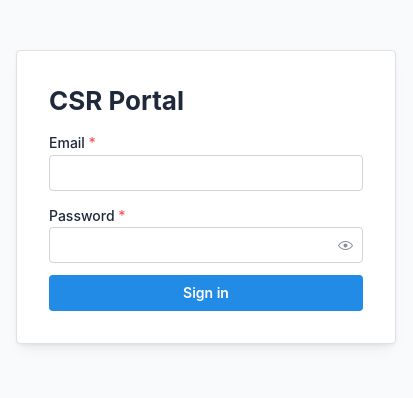
LoginPage › says the credentials were wrong on a 401
This screenshot has width=413, height=398.
Type "csr@example.com" into the field labelled "Email *" at (206, 172), box x1=49 y1=154 x2=363 y2=190
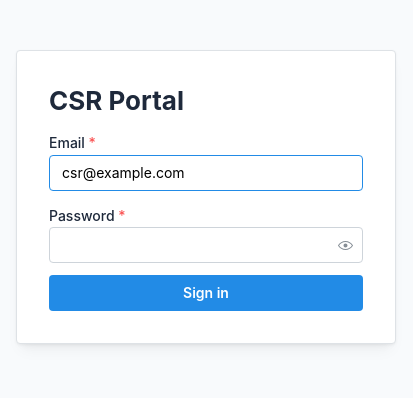
Type "wrong" into the password field labelled "Password *" at (206, 245), box x1=50 y1=228 x2=362 y2=262
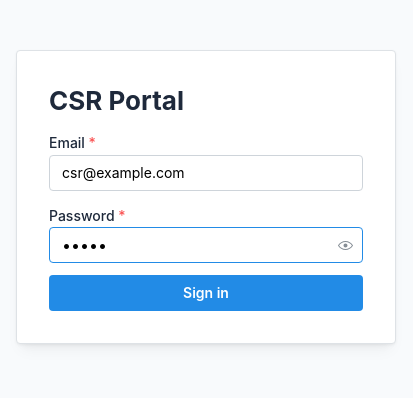
Click the button "Sign in" at (206, 293), box x1=49 y1=275 x2=363 y2=311
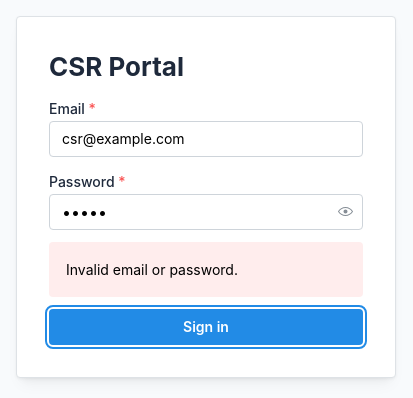
Check: the message reads "Invalid email or password.", box x1=66 y1=260 x2=238 y2=278
